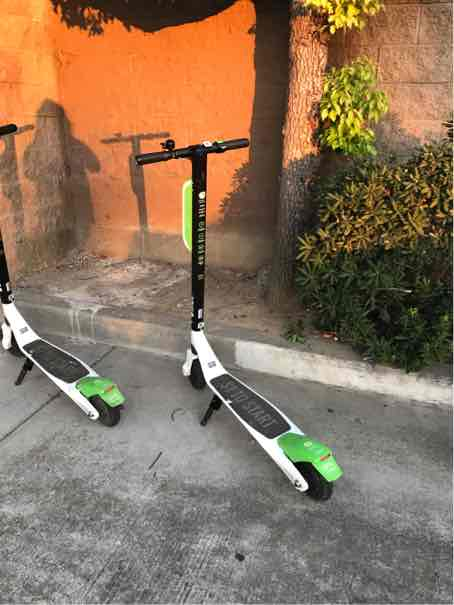scooter: (128, 134, 347, 507)
